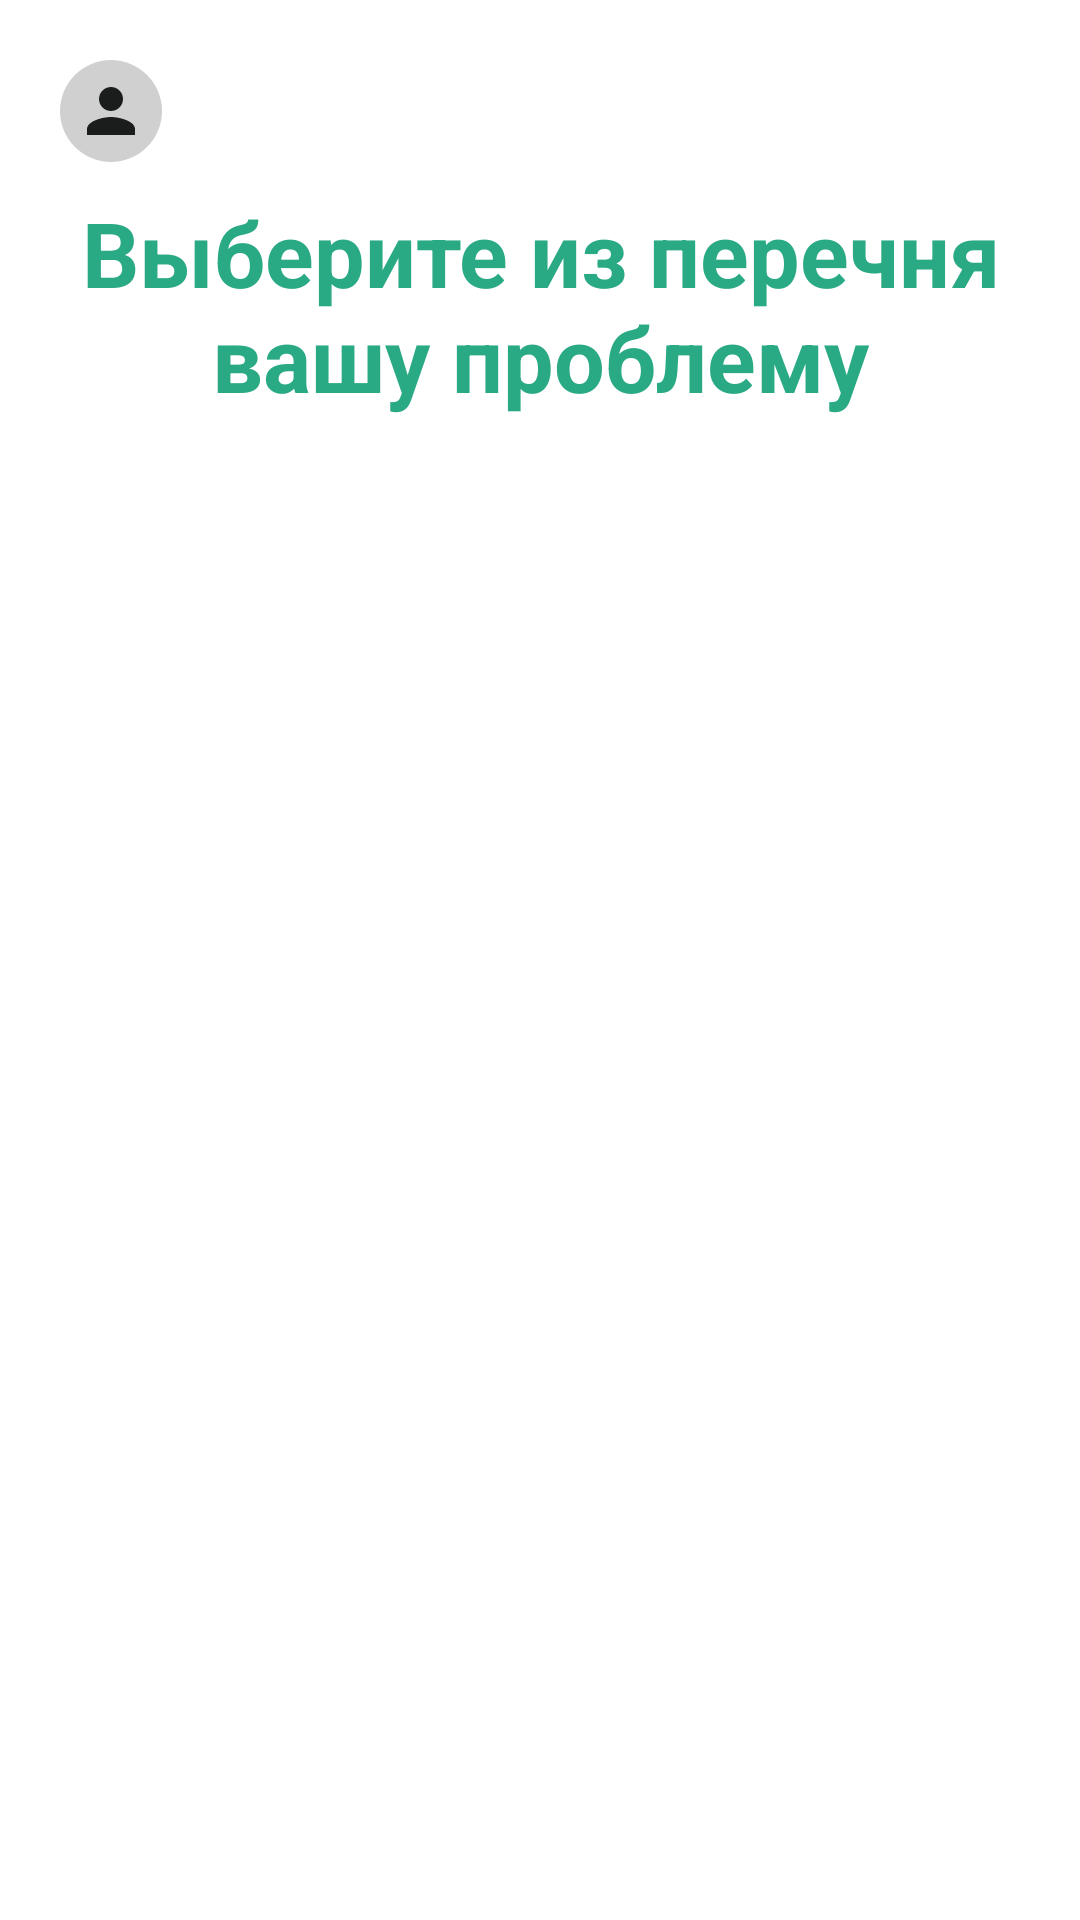

Screen size 1080px x 1920px. Icon name, then its box in pixels as bbox=(x1, y1, x2, y2):
person: bbox=(60, 60, 162, 162)
